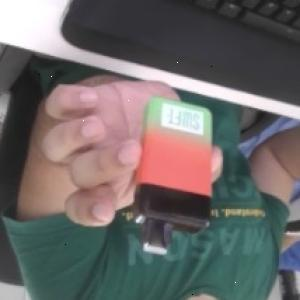Swift-E-Ciggirate: (131, 96, 226, 257)
